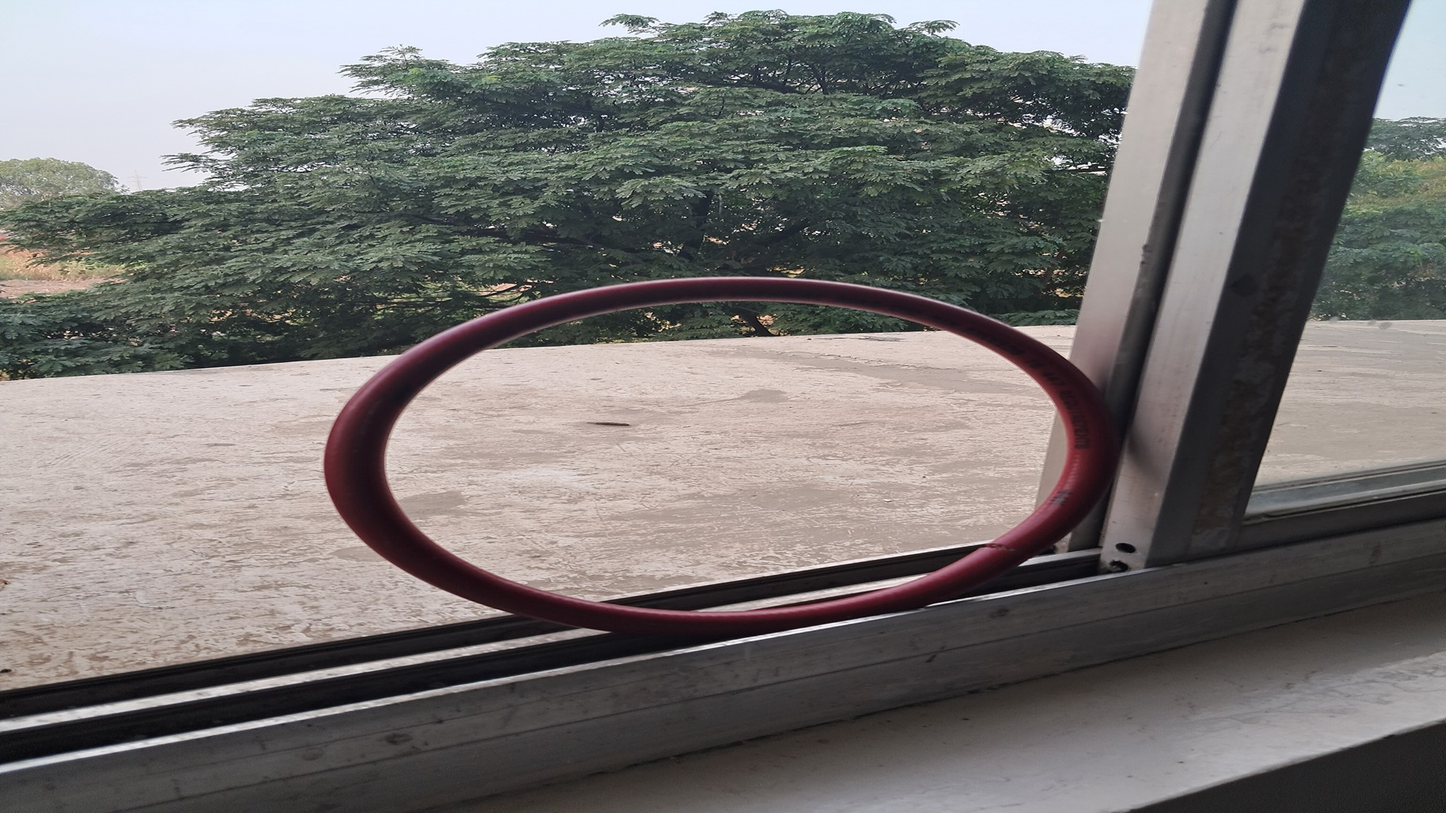Red ring: (322, 273, 1107, 626)
